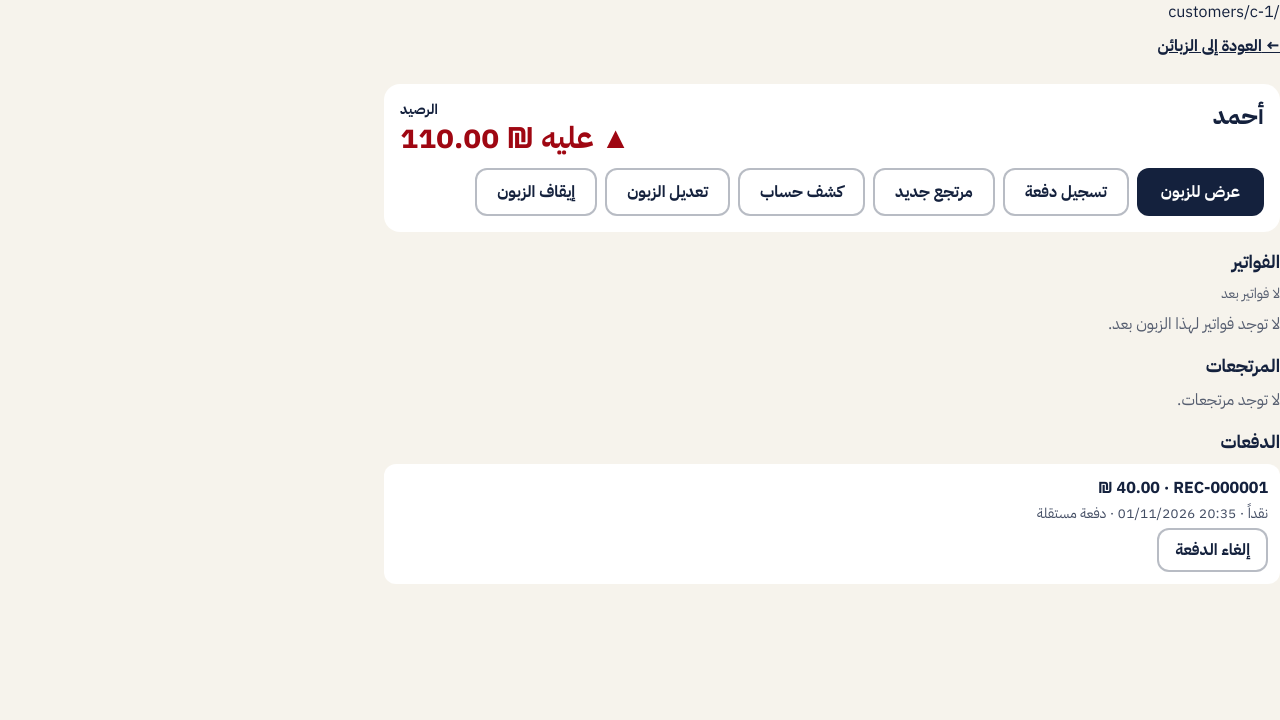
Test case: voiding a payment › asks for a reason, keeps the record, and the balance comes back at once
The width and height of the screenshot is (1280, 720).
Click the button "إلغاء الدفعة": (1213, 550) [1157,528,1268,572]
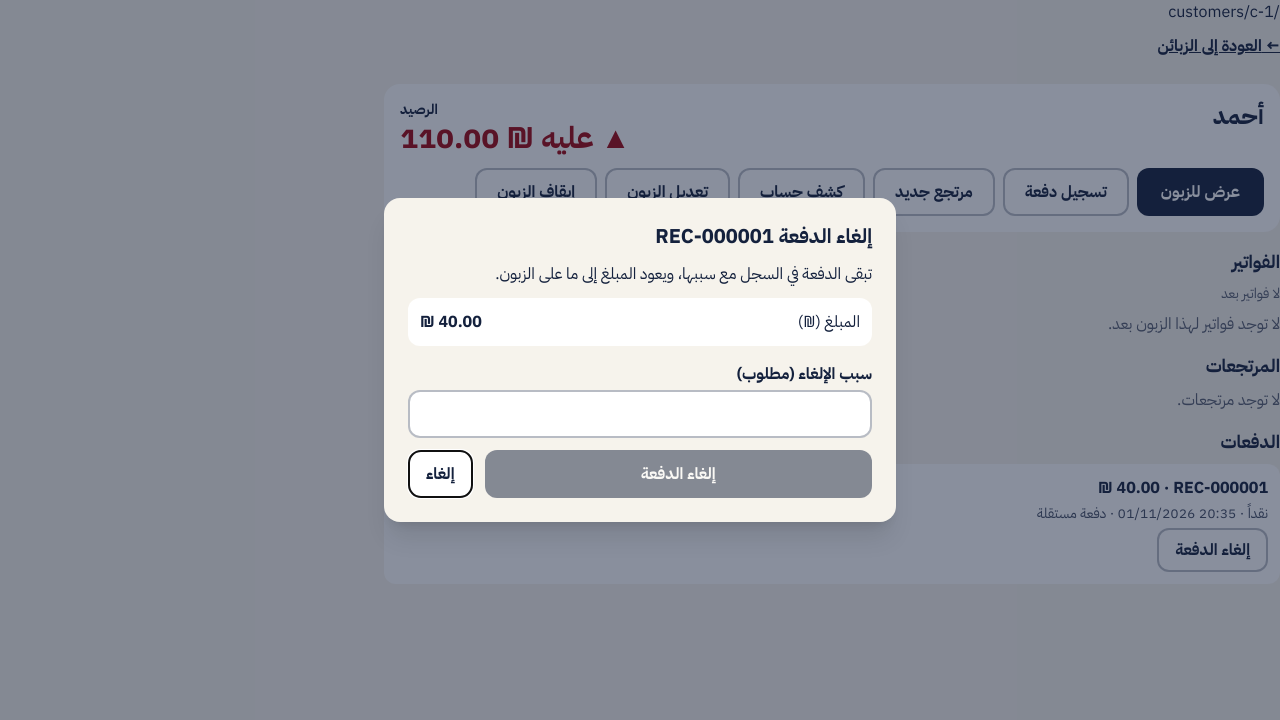
Result: the button "إلغاء الدفعة" is disabled at [484,450,872,498]
In the field labelled "سبب الإلغاء (مطلوب)": (640, 414) [408,390,872,438], type "كتبتها بالغلط"
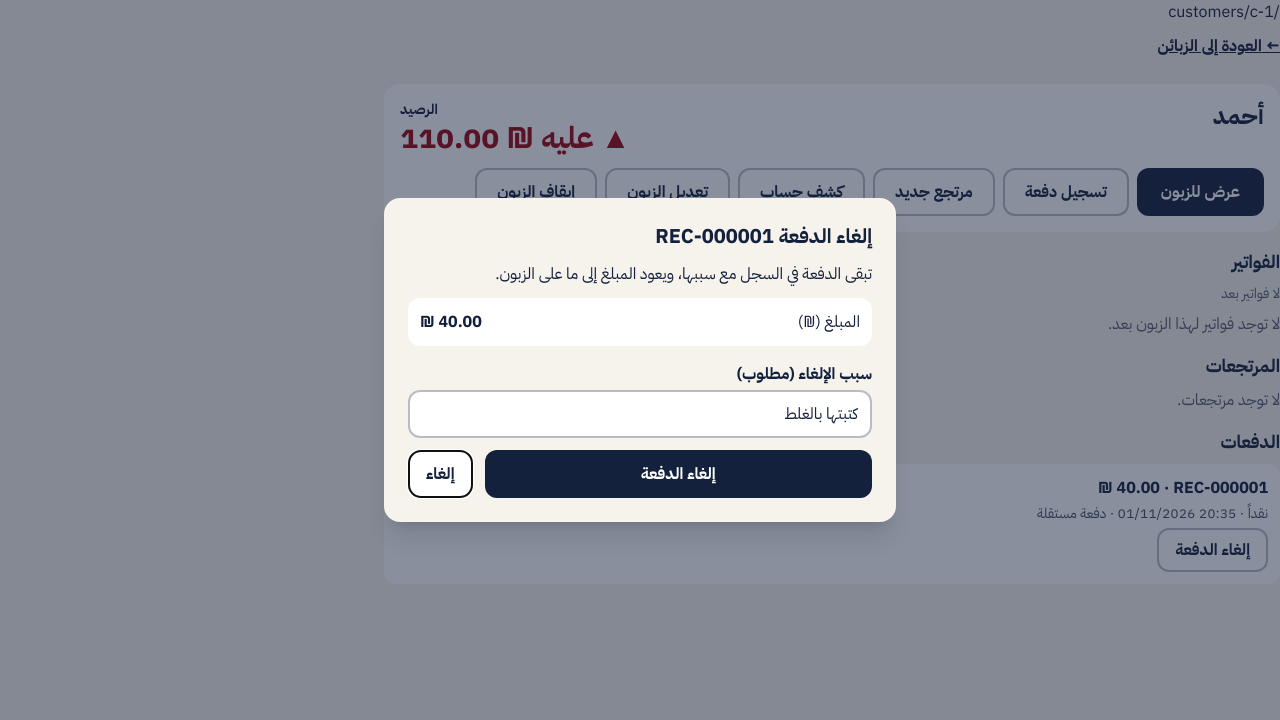
Result: the button "إلغاء الدفعة" is enabled
Click the button "إلغاء الدفعة": (678, 474) [484,450,872,498]
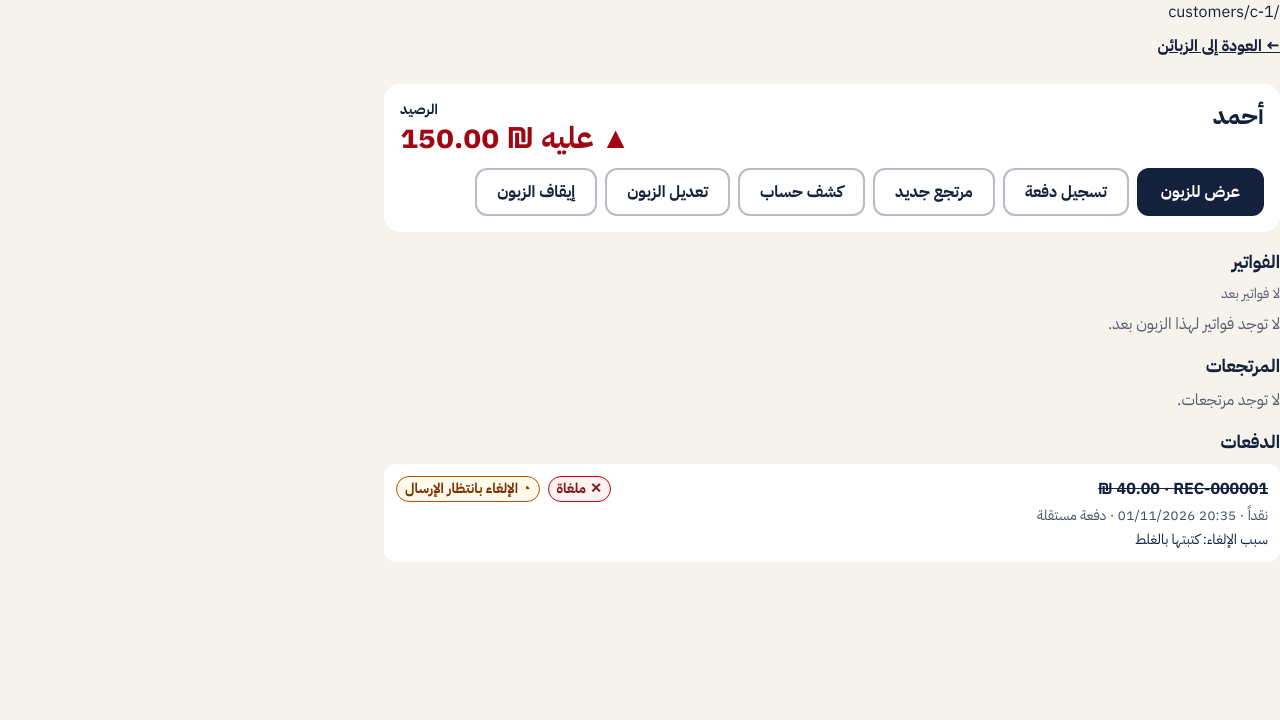
Result: the text "ملغاة" is shown at [556,478,586,499]
Result: the text "الإلغاء بانتظار الإرسال" is shown at [405,478,518,499]
Result: the text "سبب الإلغاء: كتبتها بالغلط" is shown at [1135,529,1268,550]
